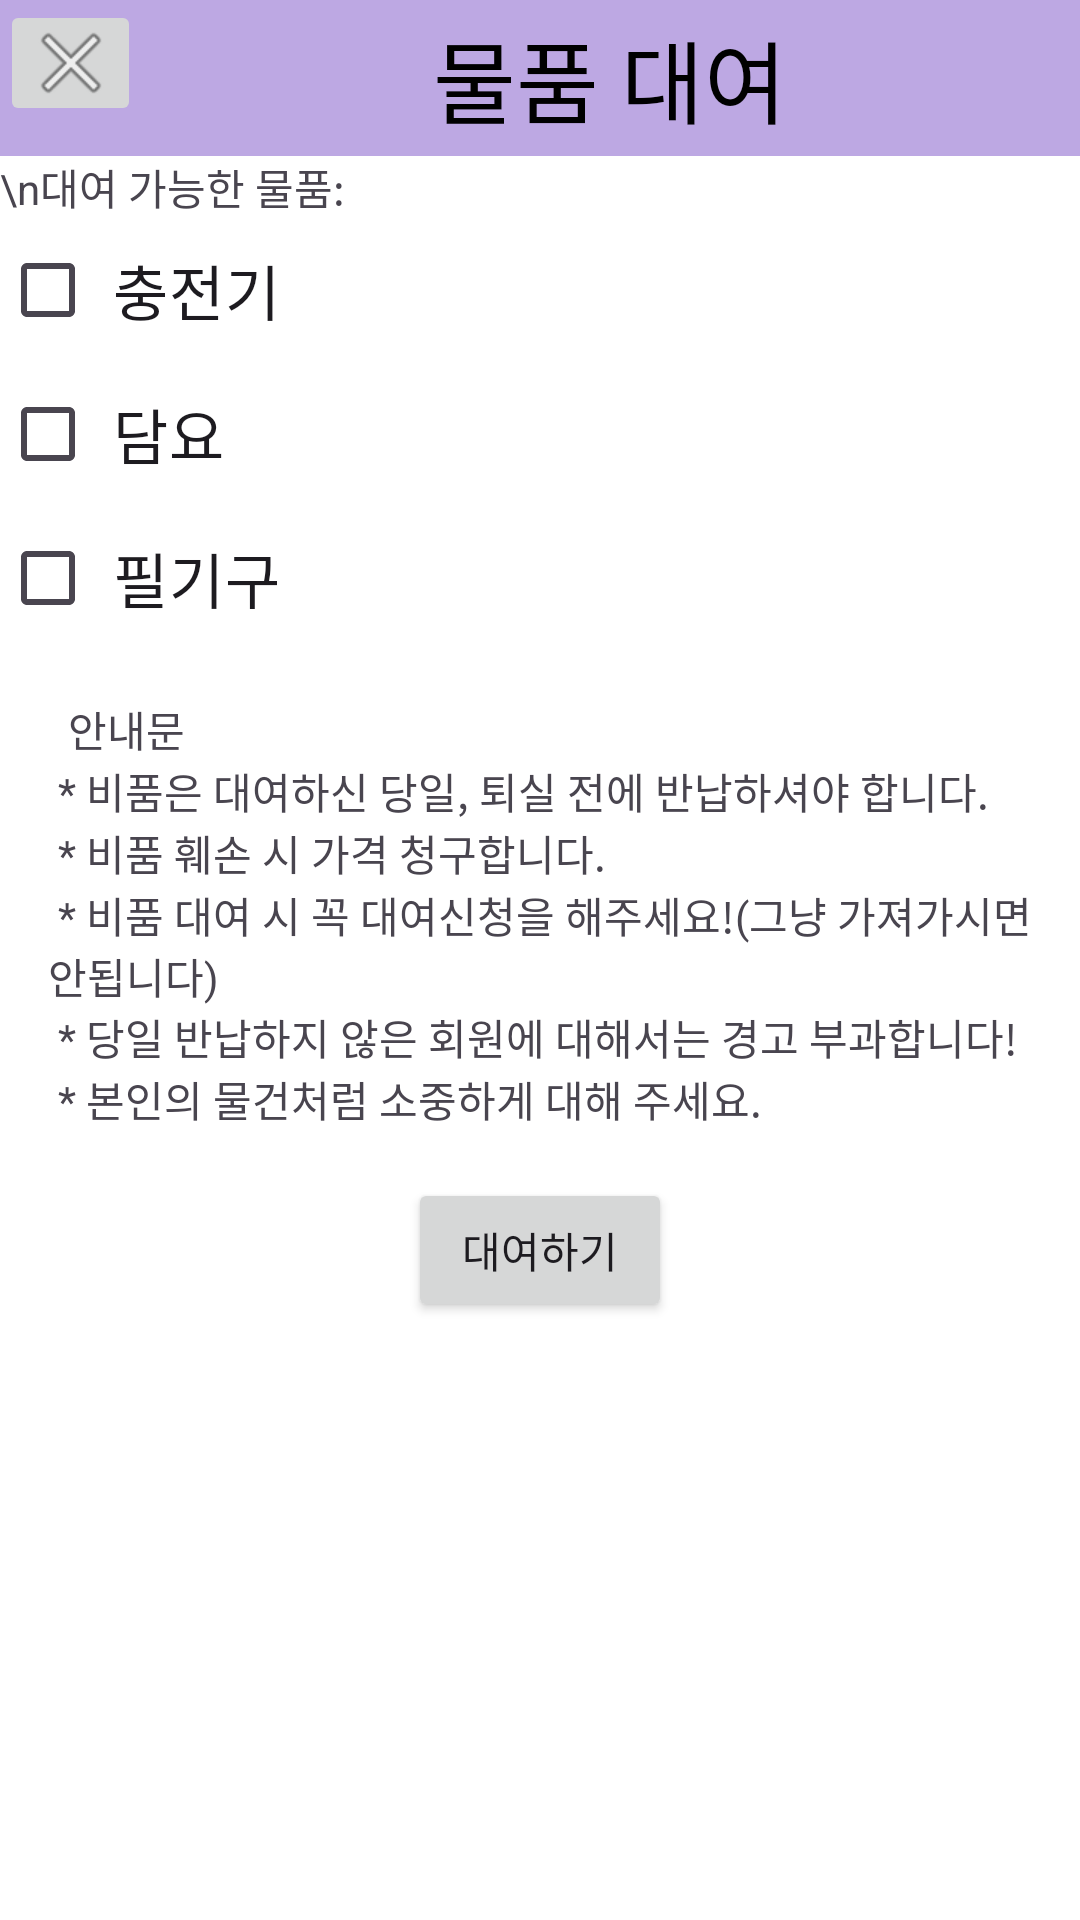

Where icons sit on this 1080×1920 app screen, as (x1, y1, x2, y2):
close clear cancel: (12, 18, 129, 108)
